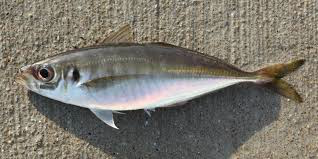azi: (15, 28, 305, 121)
